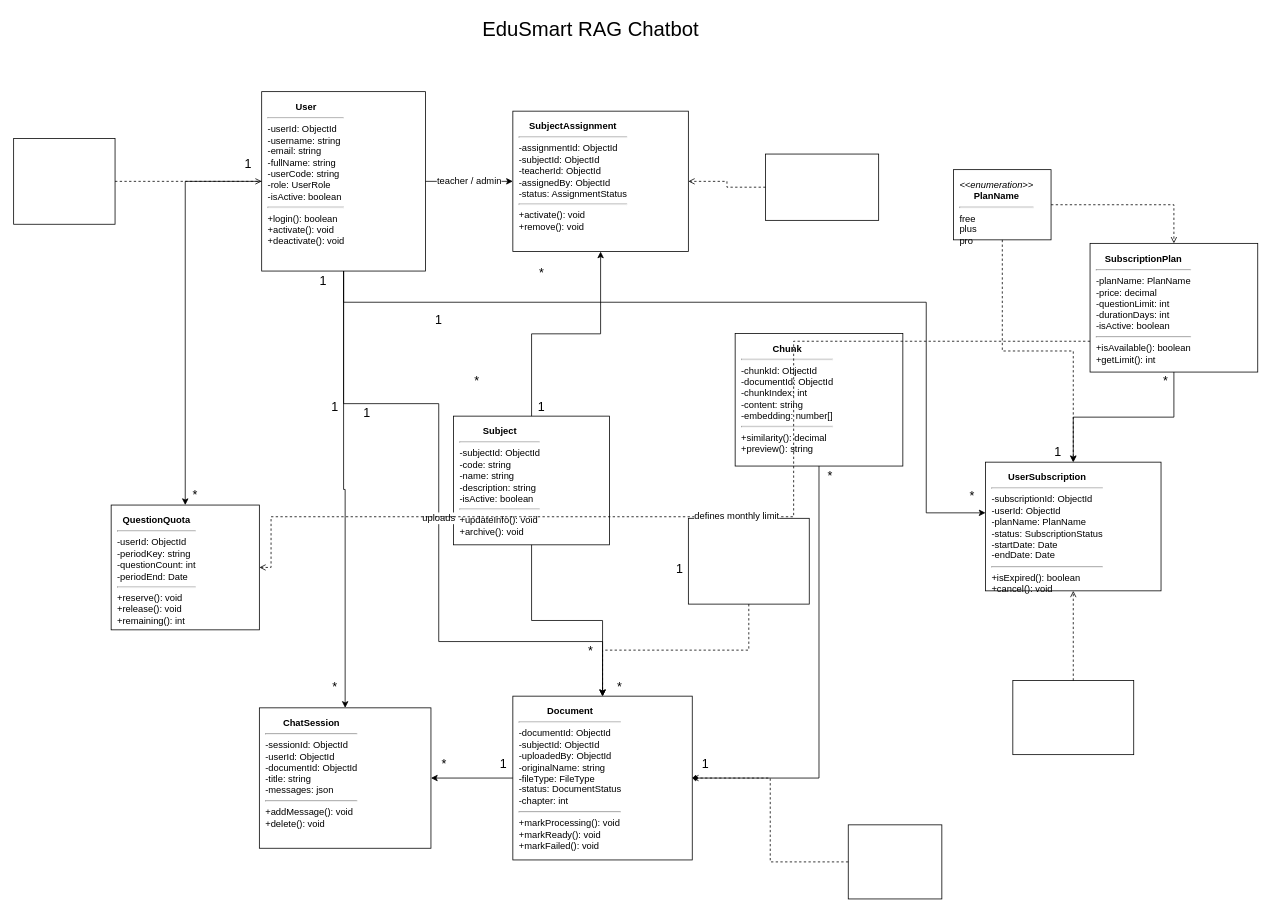
Some shapes in this 1271 by 915 pixel diagram are drawn without their labels. The centre of each missing label's shape, as x and y in pixels:
"<<enumeration>> AssignmentStatus active removed" belongs at (822,186).
"<<enumeration>> DocumentStatus uploaded processing ready failed" belongs at (748,561).
"<<enumeration>> FileType pdf docx pptx" belongs at (894,861).
"<<enumeration>> SubscriptionStatus active expired cancelled" belongs at (1073,717).
"<<enumeration>> UserRole admin teacher student" belongs at (64,181).
